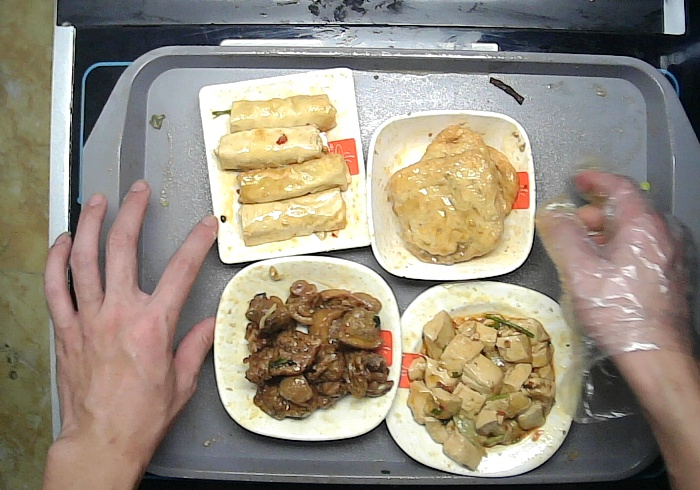SHKJ-Bai_Se_Cai_Die: (212, 255, 403, 442)
SHKJ-Bai_Se_Si_Fang_Cai_Die: (386, 280, 581, 478)
SHKJ-Bai_Se_Xiao_Fang_Die: (365, 108, 537, 282)
SHKJ-Si_Fang_Min: (198, 67, 375, 263)
